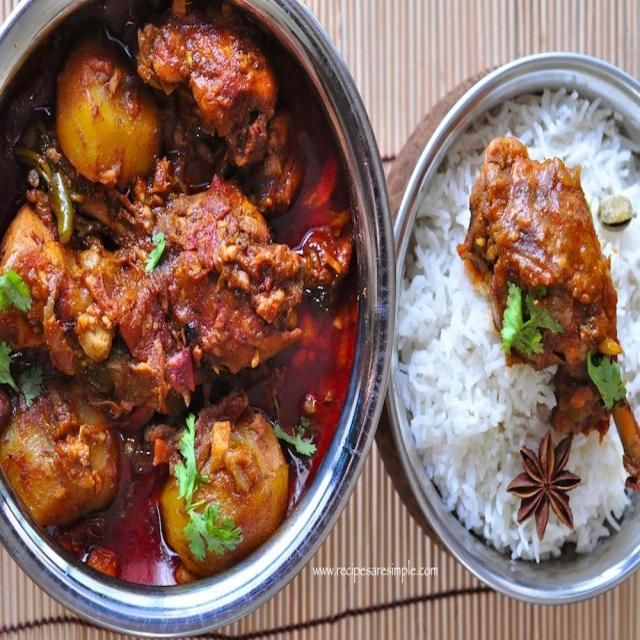chicken: (0, 16, 347, 586), (480, 146, 640, 443)
rice: (398, 144, 481, 520)
